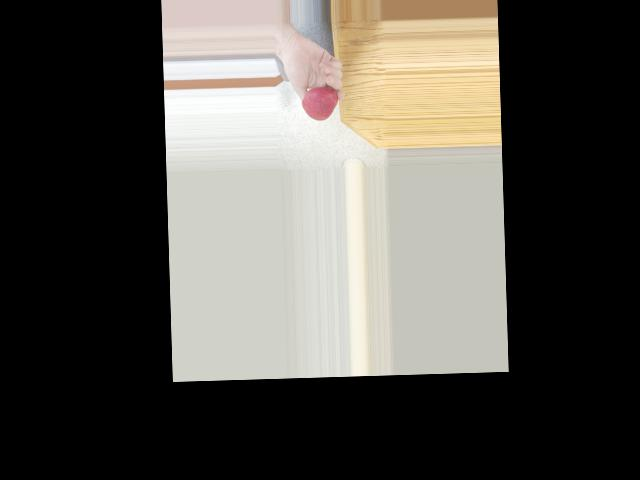apple: (301, 87, 336, 121)
